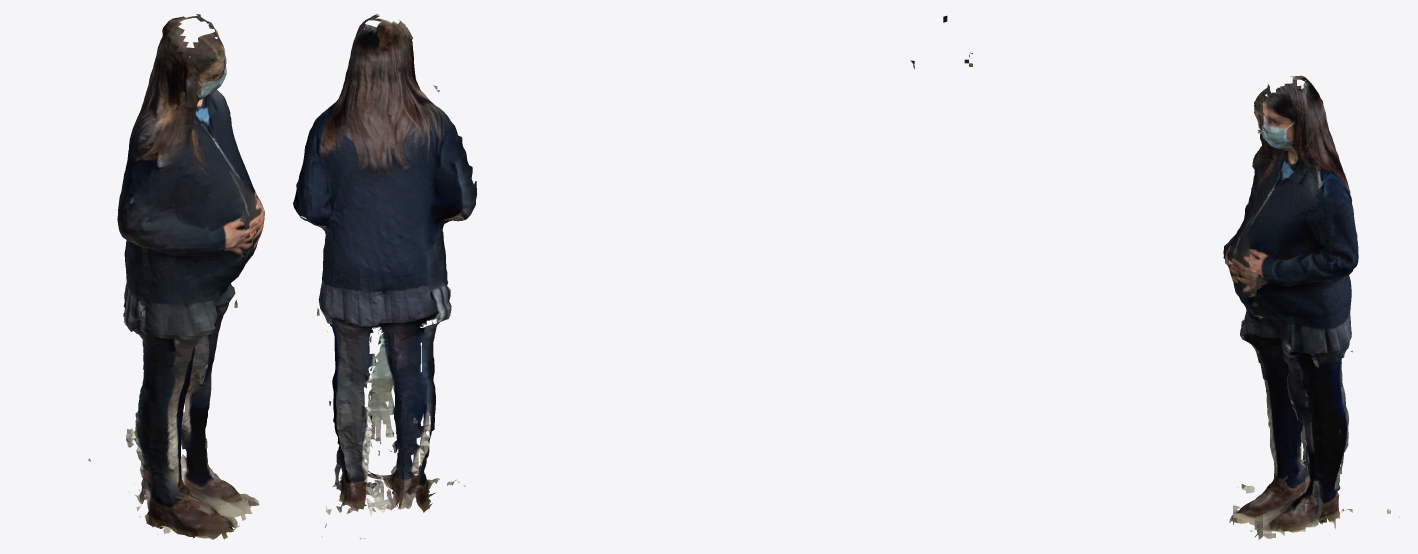
File: Polite.gltf
The picture shows the model from 3 angles, left to right: view 1: azimuth 30°, elevation 25°; view 2: azimuth 150°, elevation 25°; view 3: azimuth 270°, elevation 25°; orthographic projection. The views are drawn at different scales.
Size of the model in its own units: 1.51 by 1.71 by 1.61.
1 material, 1 textured.
